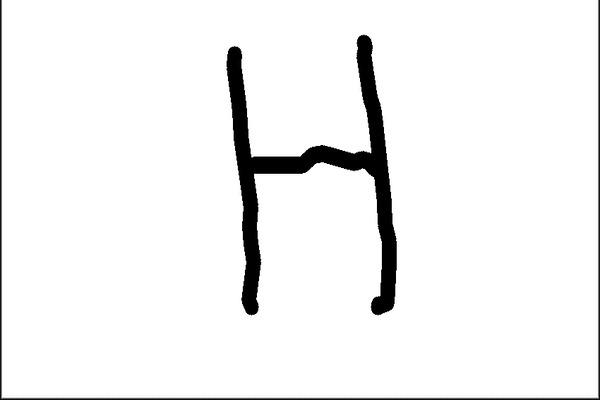H: (219, 30, 405, 325)
